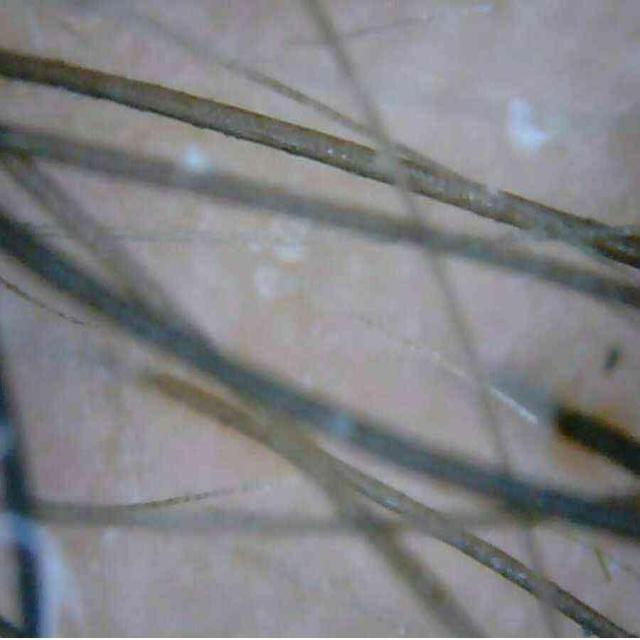d: (506, 97, 548, 153), (182, 144, 210, 170)
